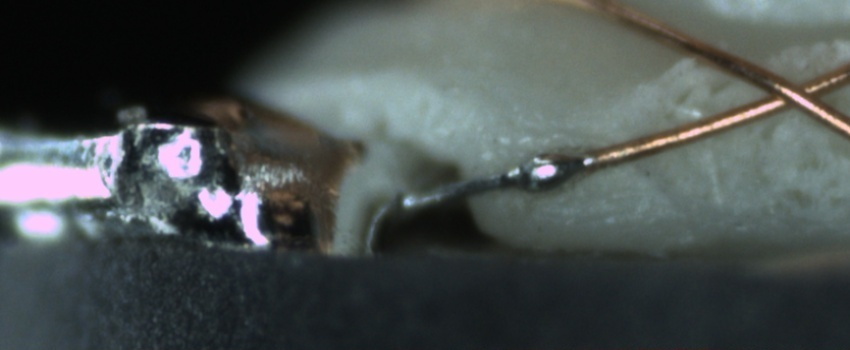CL: (740, 60, 841, 122)
DL: (489, 116, 624, 168)
TB: (510, 149, 584, 196)
TS: (407, 154, 593, 208)
TTCW: (396, 139, 649, 215)
